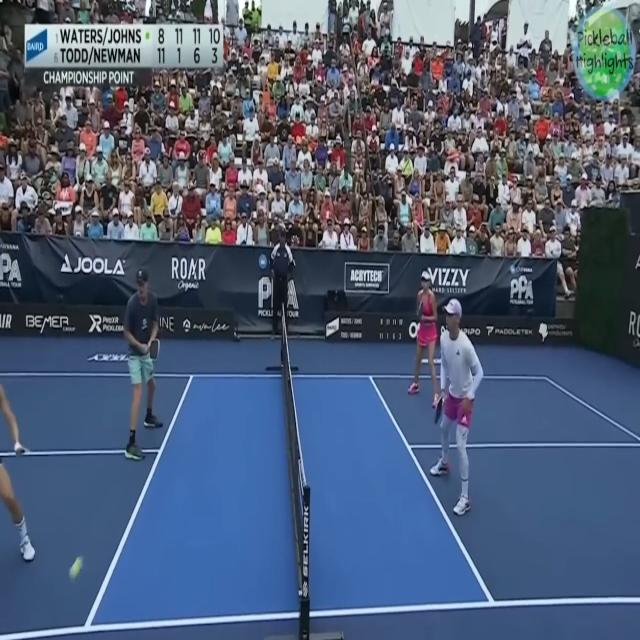Pickleball: (69, 554, 83, 581)
